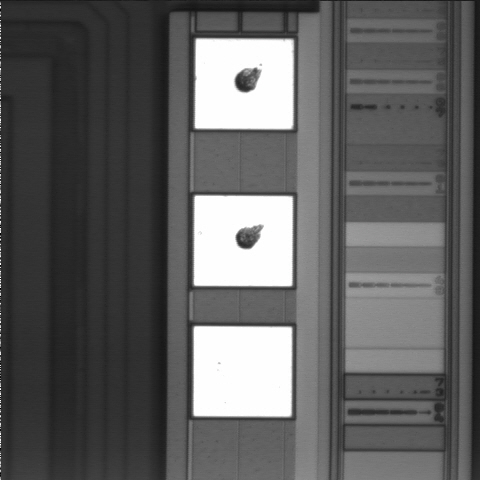pad: (194, 326, 292, 417), (194, 196, 293, 286), (195, 39, 293, 129)
